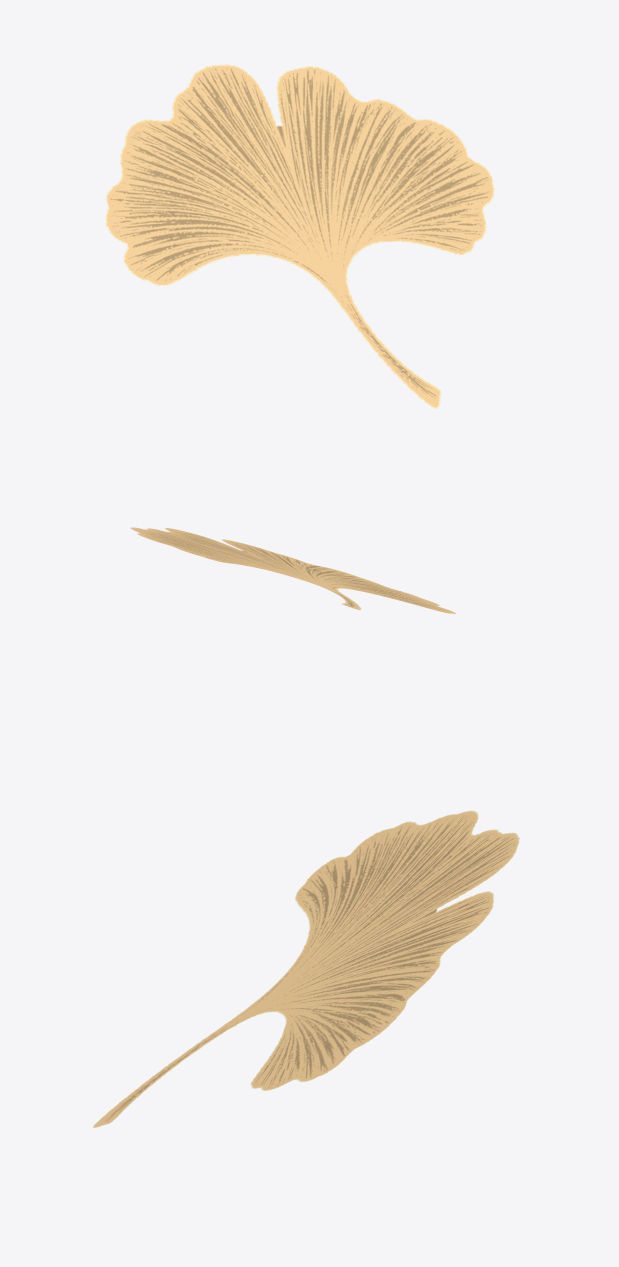
The model's file is Tanger_Eclipse_v3_AR.glb.
3 views of the same model, one above another, from view 1: azimuth 30°, elevation 25°; view 2: azimuth 150°, elevation 25°; view 3: azimuth 270°, elevation 25° (orthographic). The views are drawn at different scales.
Visible parts, largest first — view 1: AR_GINKGO; view 2: AR_GINKGO; view 3: AR_GINKGO.
Part boxes in pixels (left/top/right/bottom): AR_GINKGO: left=105, top=64, right=494, bottom=408; AR_GINKGO: left=130, top=527, right=455, bottom=613; AR_GINKGO: left=93, top=810, right=519, bottom=1127.
Size of what is drawn, in the model's own units: 2.25 by 1.26 by 1.87.
1 material, 1 textured.
